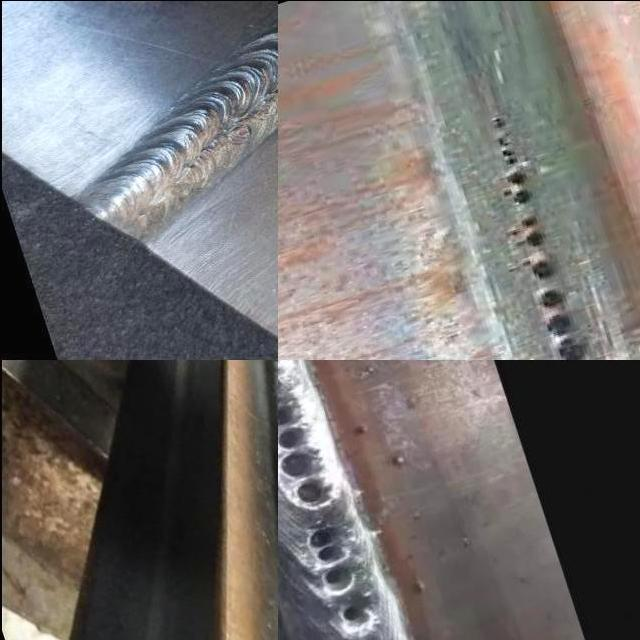defect: (508, 214, 596, 359), (276, 374, 325, 507), (483, 110, 535, 211), (300, 522, 357, 598), (342, 602, 369, 625), (226, 126, 252, 144), (253, 99, 275, 117)
